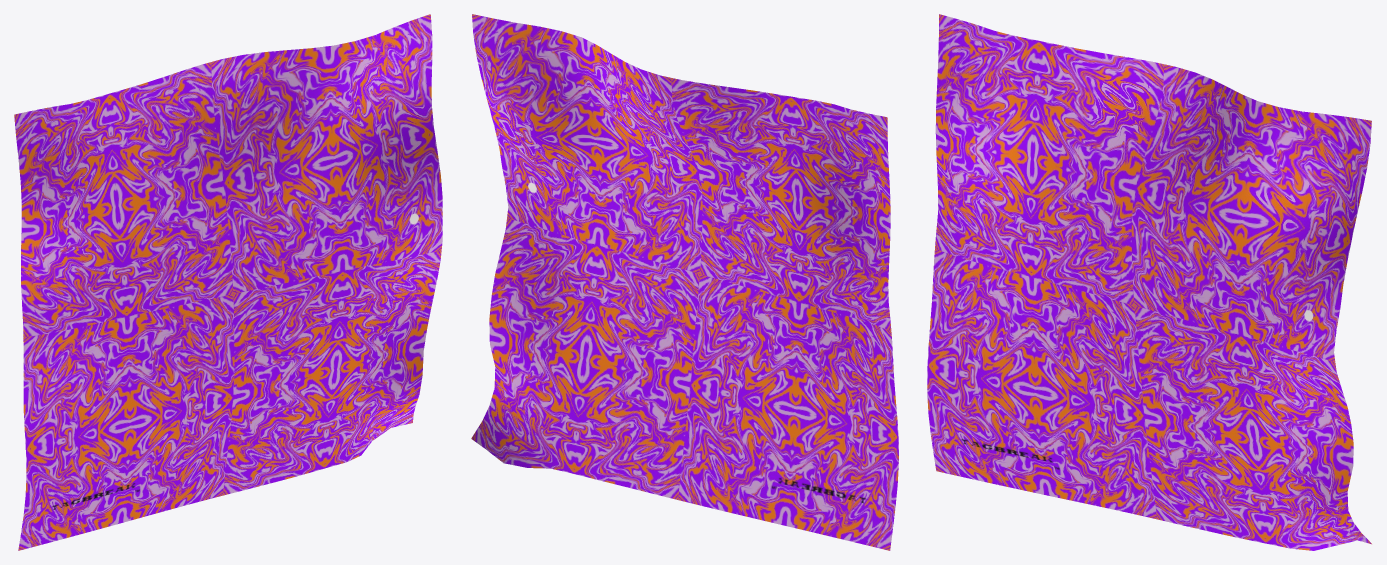
File: ember.glb
The picture shows the model from 3 angles, left to right: view 1: azimuth 30°, elevation 25°; view 2: azimuth 150°, elevation 25°; view 3: azimuth 330°, elevation 25°; orthographic projection. The views are drawn at different scales.
Parts seen in each view (by area): view 1: Plane; view 2: Plane; view 3: Plane.
Boxes of the visible parts, bbox=[...] form: Plane: bbox=[14, 14, 442, 550]; Plane: bbox=[471, 14, 898, 550]; Plane: bbox=[927, 14, 1371, 550].
Bounding box in the file's own units: 2 × 2 × 0.3129.
Materials: 1 (1 with a texture image).
